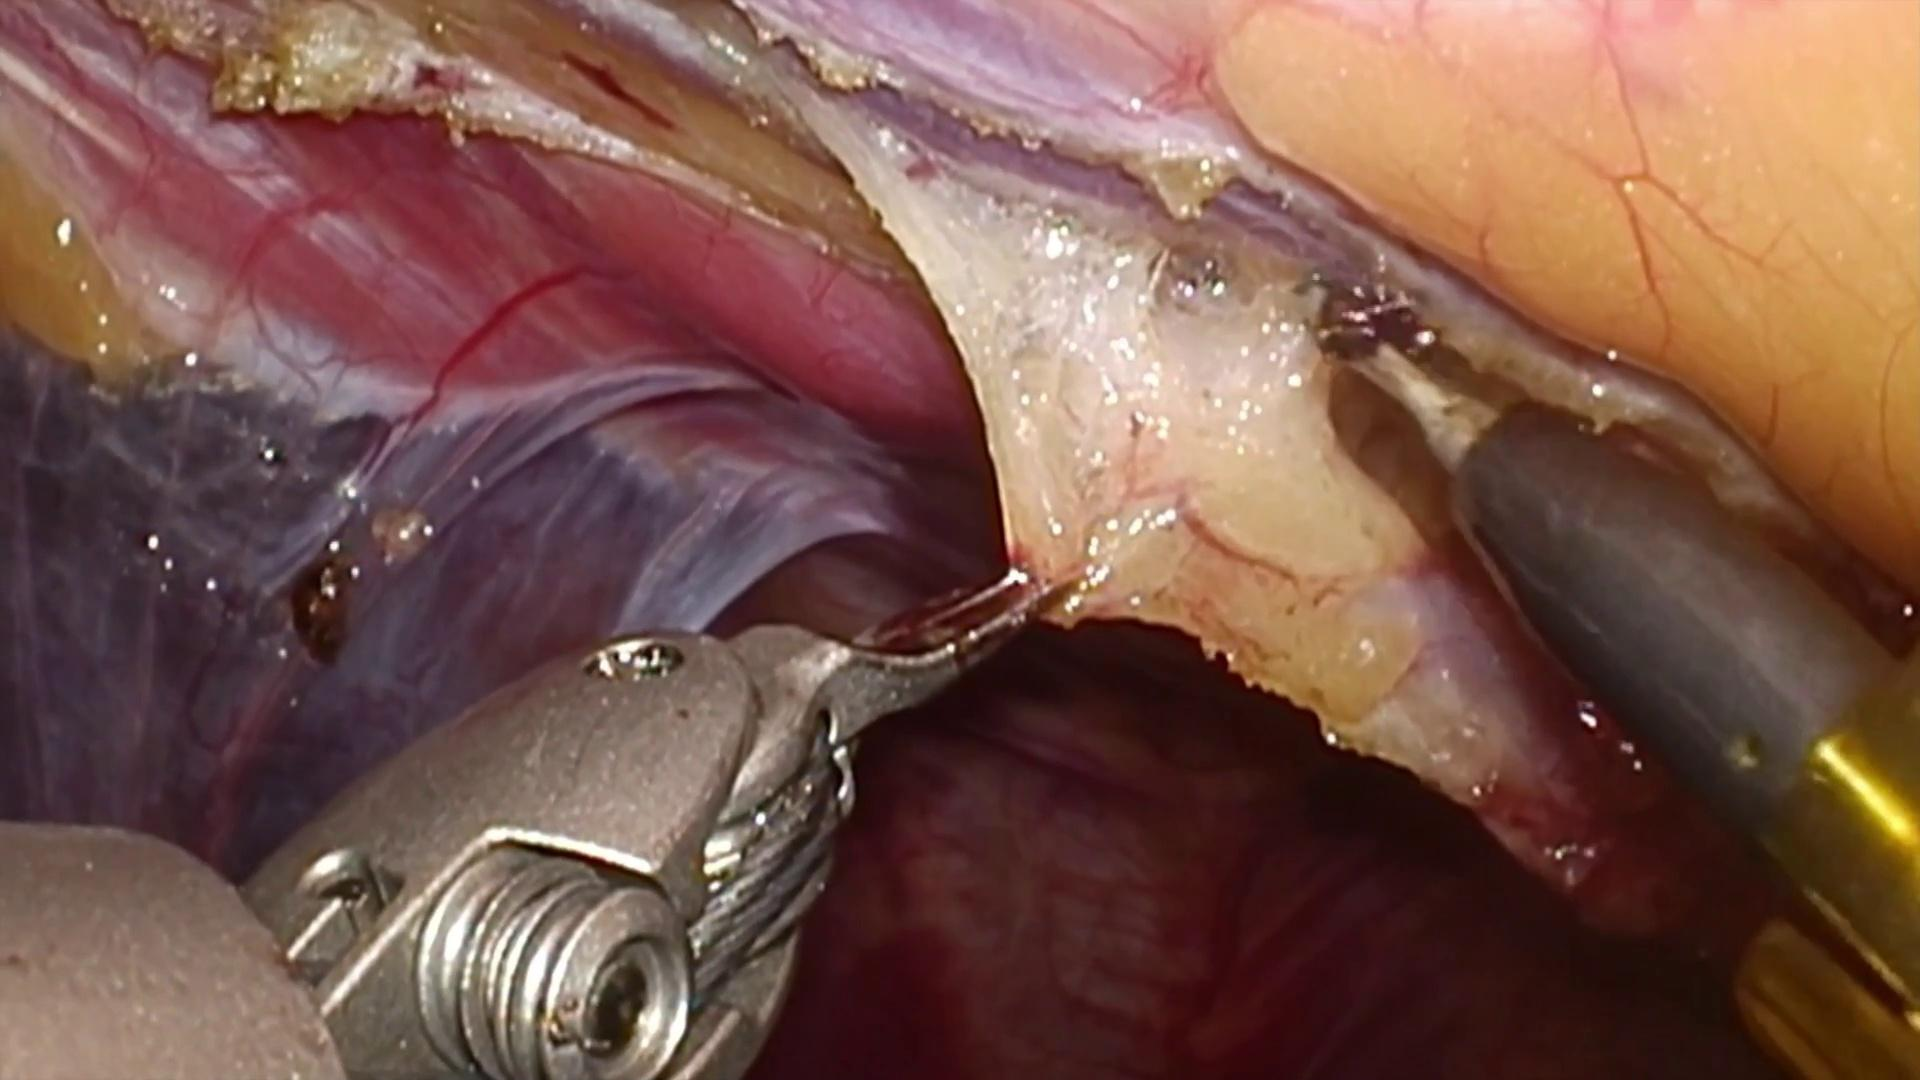Cautery_Spatula: (1323, 289, 1890, 831)
Debakey: (740, 549, 1067, 770)
